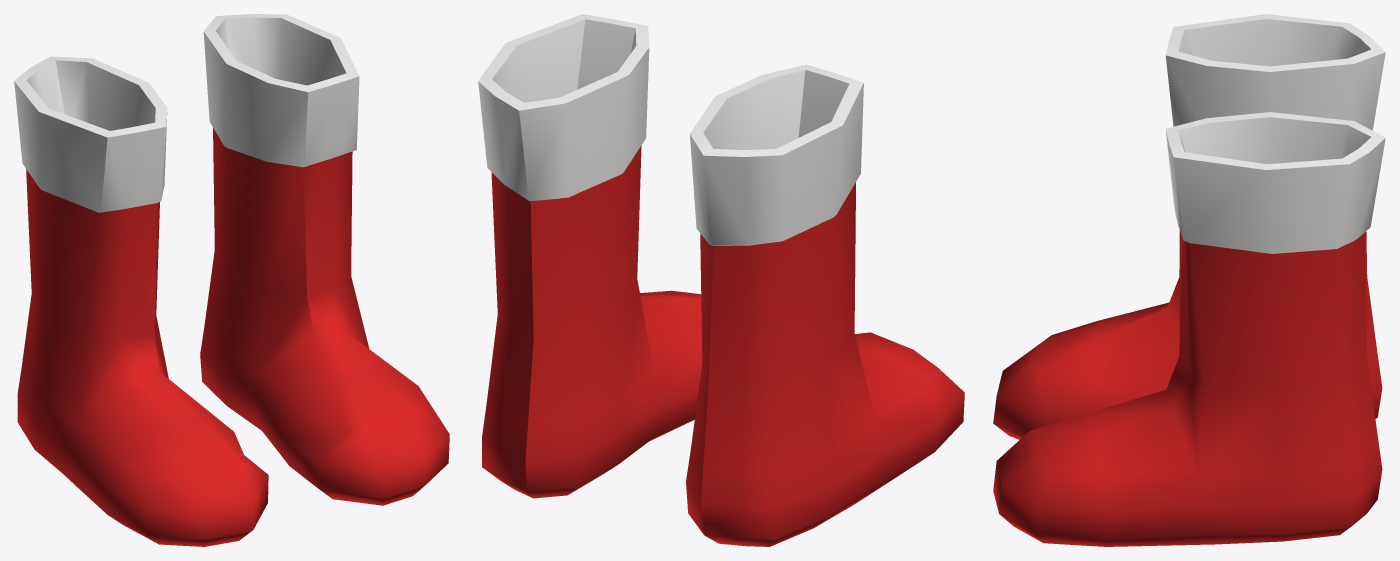
Rendered from Boots.glb.
3 renders of one model, left to right at view 1: azimuth 30°, elevation 25°; view 2: azimuth 150°, elevation 25°; view 3: azimuth 270°, elevation 25°, orthographic. The views are drawn at different scales.
Parts seen in each view (by area): view 1: Boots; view 2: Boots; view 3: Boots.
Boxes of the visible parts, box(x1,y1,x2,y2) form: Boots: box(14, 14, 449, 546); Boots: box(478, 14, 964, 546); Boots: box(993, 14, 1385, 546).
Bounding box in the file's own units: 0.4824 × 0.5145 × 0.4791.
1 material, 1 textured.
